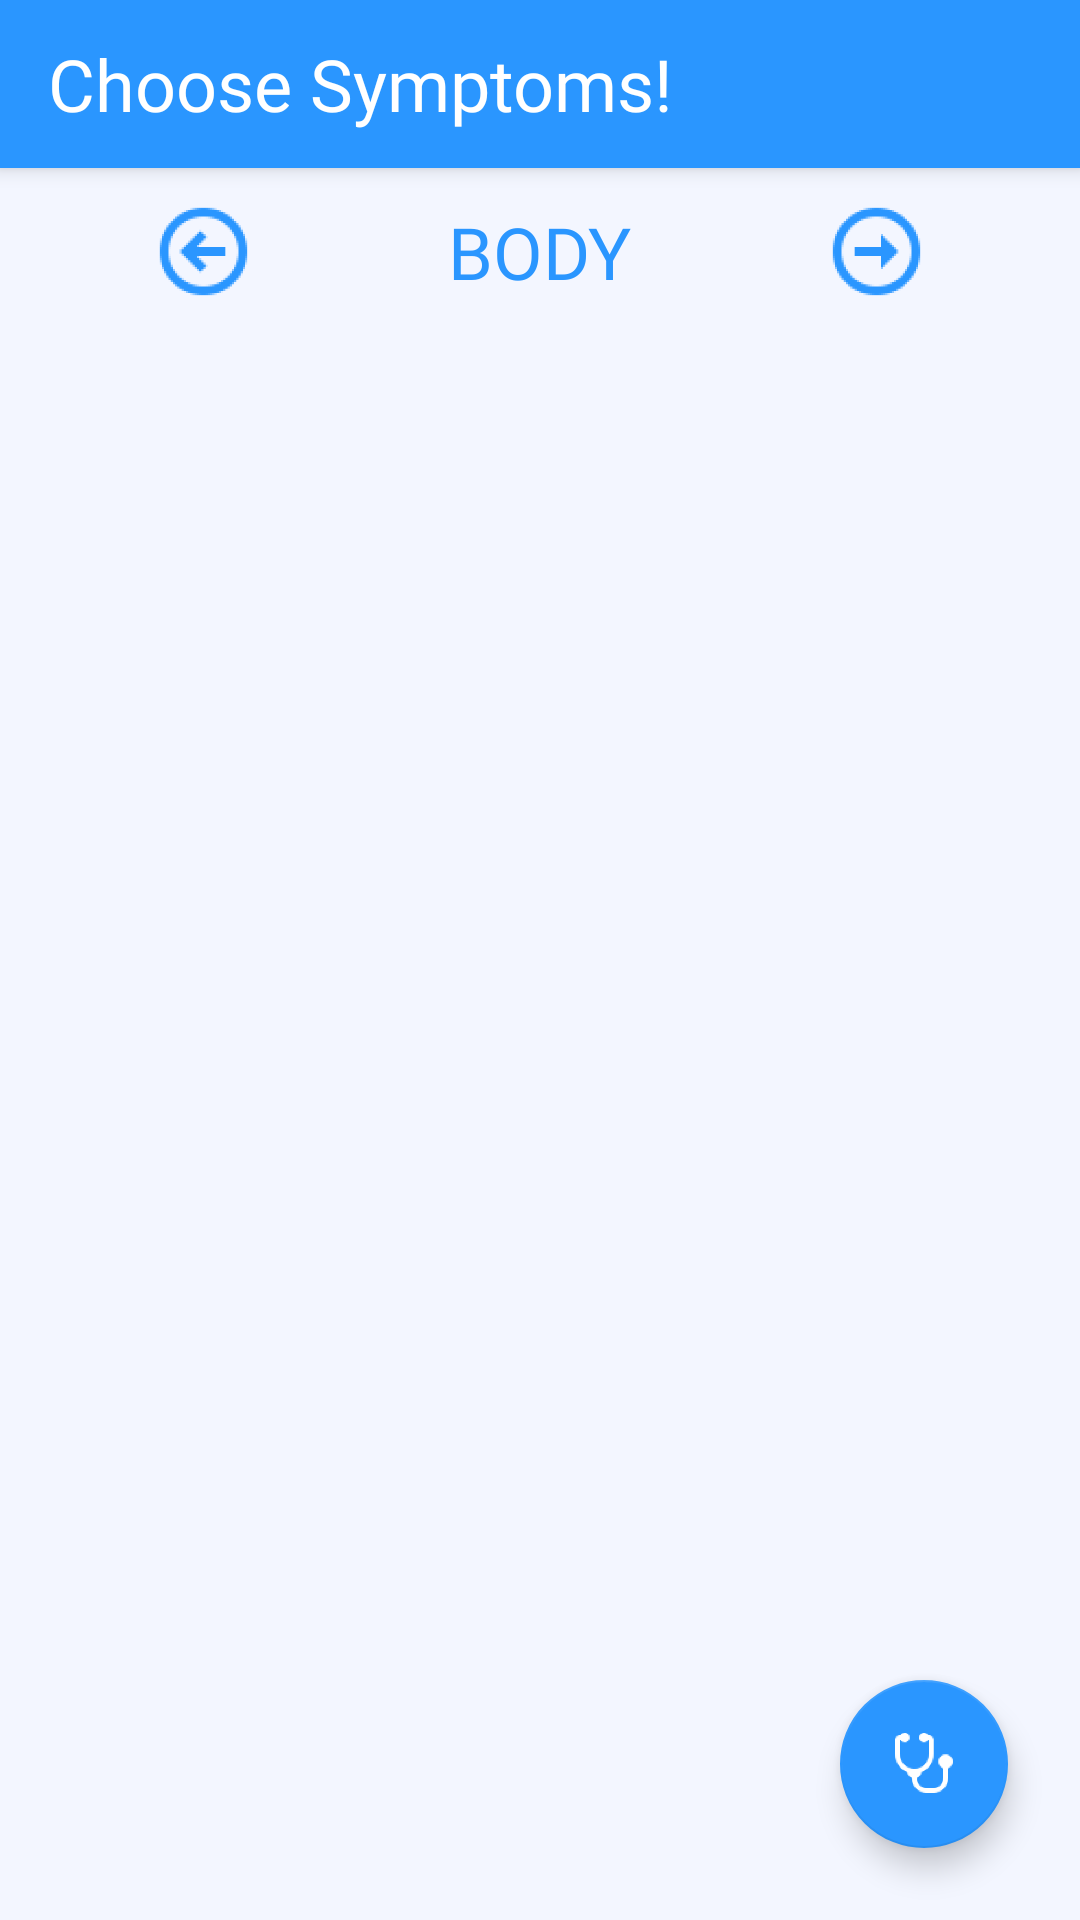

Icons on this 1080 × 1920 Android screen, each with its box as (x1, y1, x2, y2):
back: (159, 207, 248, 296)
diagnose: (840, 1680, 1008, 1848)
forward: (832, 207, 921, 296)
